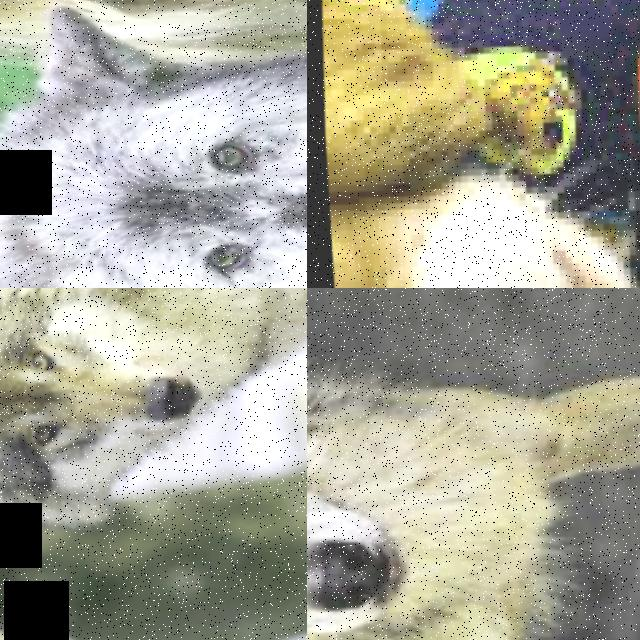dog: (307, 0, 640, 288)
wolf: (307, 302, 640, 640), (0, 0, 307, 288), (0, 288, 307, 560), (0, 495, 307, 640)
